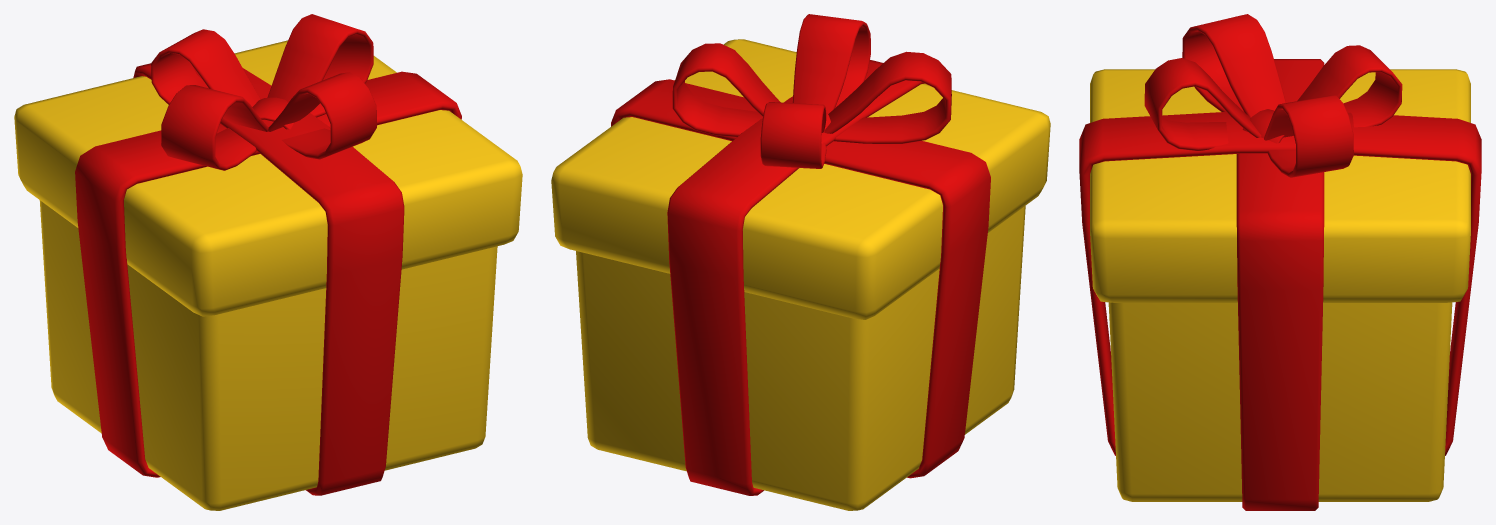
File: giftbox03.fbx
3 views of the same model, side by side, from view 1: azimuth 30°, elevation 25°; view 2: azimuth 150°, elevation 25°; view 3: azimuth 270°, elevation 25° (orthographic). The views are drawn at different scales.
Visible parts, largest first — view 1: GIFTBOX_001; view 2: GIFTBOX_001; view 3: GIFTBOX_001.
Boxes of the visible parts, left/top/right/bottom form: GIFTBOX_001: left=14, top=14, right=522, bottom=510; GIFTBOX_001: left=551, top=14, right=1050, bottom=510; GIFTBOX_001: left=1079, top=14, right=1481, bottom=510.
Size of the model in its own units: 34.86 by 37.35 by 34.86.
